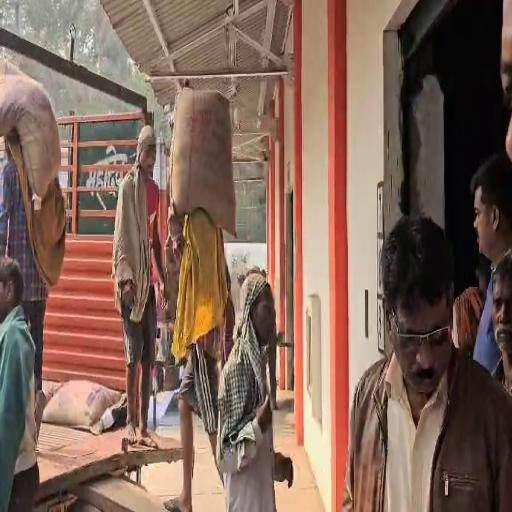bag: (170, 77, 239, 241), (0, 56, 65, 206)
